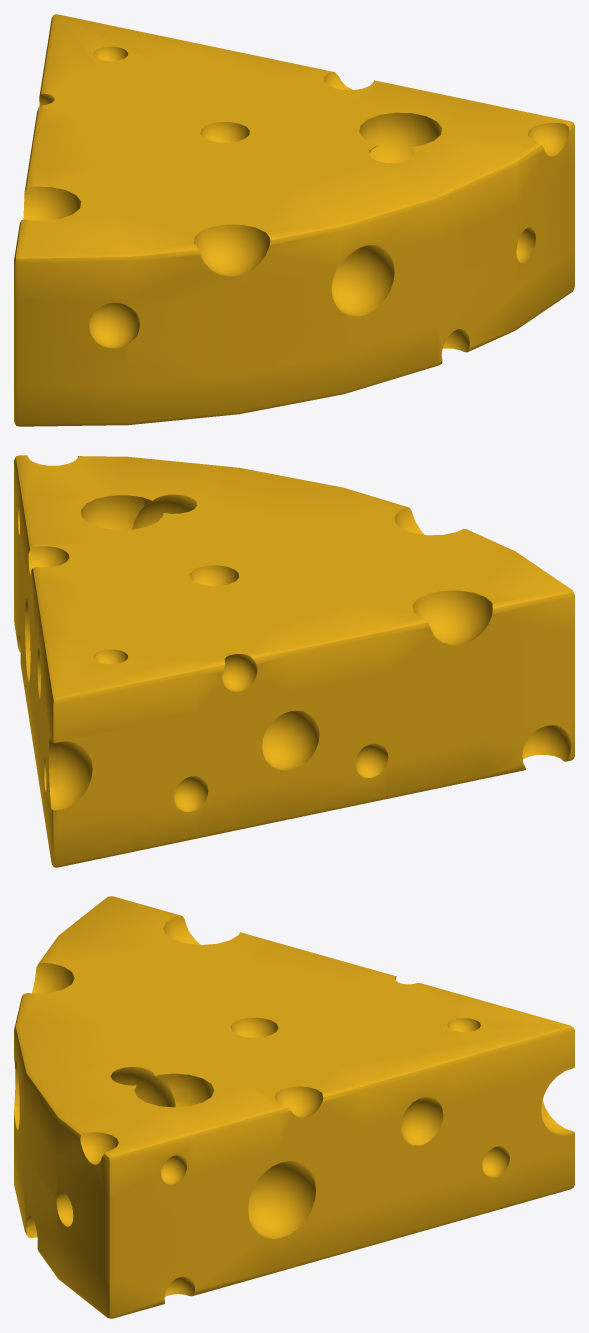
Rendered from cheese.fbx.
The picture shows the model from 3 angles, top to bottom: view 1: azimuth 30°, elevation 25°; view 2: azimuth 150°, elevation 25°; view 3: azimuth 270°, elevation 25°; orthographic projection. The views are drawn at different scales.
Parts seen in each view (by area): view 1: Circle; view 2: Circle; view 3: Circle.
Boxes of the visible parts, x1,y1,x2,y2 form: Circle: (14, 14, 574, 426); Circle: (14, 455, 574, 867); Circle: (14, 896, 574, 1318).
Size of the model in its own units: 174 by 50.88 by 157.
